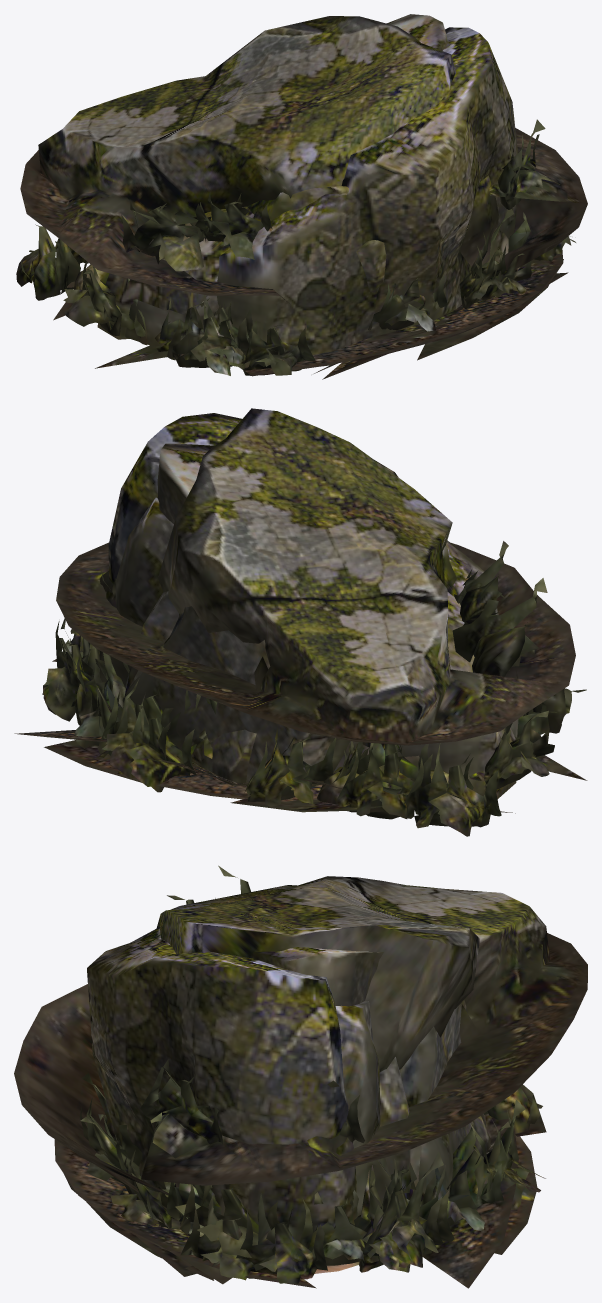
The model's file is kit-mossy-rocks.glb.
The picture shows the model from 3 angles, top to bottom: view 1: azimuth 30°, elevation 25°; view 2: azimuth 150°, elevation 25°; view 3: azimuth 270°, elevation 25°; orthographic projection. The views are drawn at different scales.
Parts seen in each view (by area): view 1: mossy_04_standard_top, mossy_02_standard_front, mossy_01_standard, mossy_05_light, mossy_06_medium, mossy_03_standard_side; view 2: mossy_04_standard_top, mossy_01_standard, mossy_06_medium, mossy_02_standard_front, mossy_03_standard_side, mossy_05_light; view 3: mossy_04_standard_top, mossy_02_standard_front, mossy_01_standard, mossy_06_medium, mossy_05_light, mossy_03_standard_side.
Part boxes in pixels (left/top/right/bottom): mossy_04_standard_top: left=20, top=16, right=587, bottom=303; mossy_02_standard_front: left=95, top=27, right=549, bottom=368; mossy_01_standard: left=16, top=209, right=563, bottom=376; mossy_05_light: left=63, top=227, right=575, bottom=375; mossy_06_medium: left=53, top=244, right=563, bottom=379; mossy_03_standard_side: left=109, top=14, right=513, bottom=369; mossy_04_standard_top: left=56, top=408, right=575, bottom=745; mossy_01_standard: left=52, top=497, right=533, bottom=836; mossy_06_medium: left=43, top=643, right=557, bottom=818; mossy_02_standard_front: left=42, top=413, right=587, bottom=801; mossy_03_standard_side: left=89, top=443, right=520, bottom=789; mossy_05_light: left=14, top=642, right=586, bottom=789; mossy_04_standard_top: left=14, top=865, right=587, bottom=1209; mossy_02_standard_front: left=86, top=927, right=537, bottom=1283; mossy_01_standard: left=54, top=999, right=545, bottom=1288; mossy_06_medium: left=64, top=1084, right=546, bottom=1284; mossy_05_light: left=89, top=1113, right=517, bottom=1288; mossy_03_standard_side: left=156, top=947, right=476, bottom=1217.
Bounding box in the file's own units: 3.71 × 1.86 × 3.24.
Materials: 1 (1 with a texture image).
